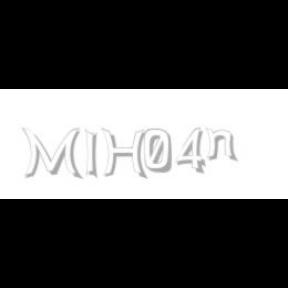0: (144, 128, 176, 174)
4: (176, 128, 206, 174)
H: (101, 128, 147, 180)
I: (86, 128, 98, 180)
M: (22, 128, 80, 180)
n: (205, 128, 239, 162)
